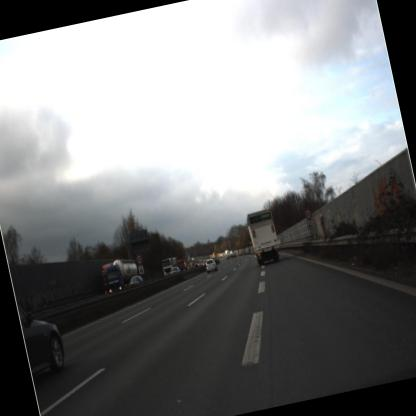prohibitory: (301, 205, 316, 223)
